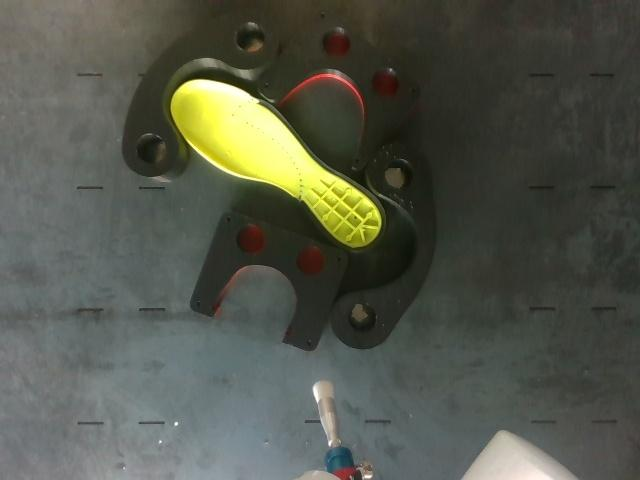shoes: (171, 80, 386, 253)
